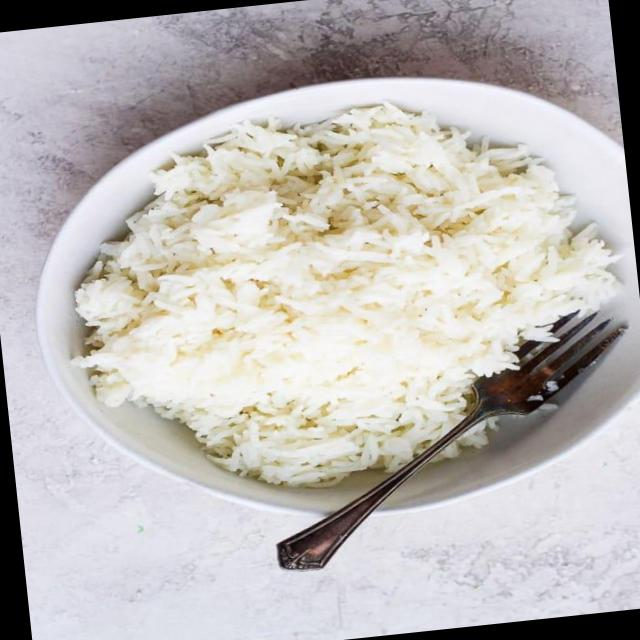rice: (75, 107, 618, 488)
